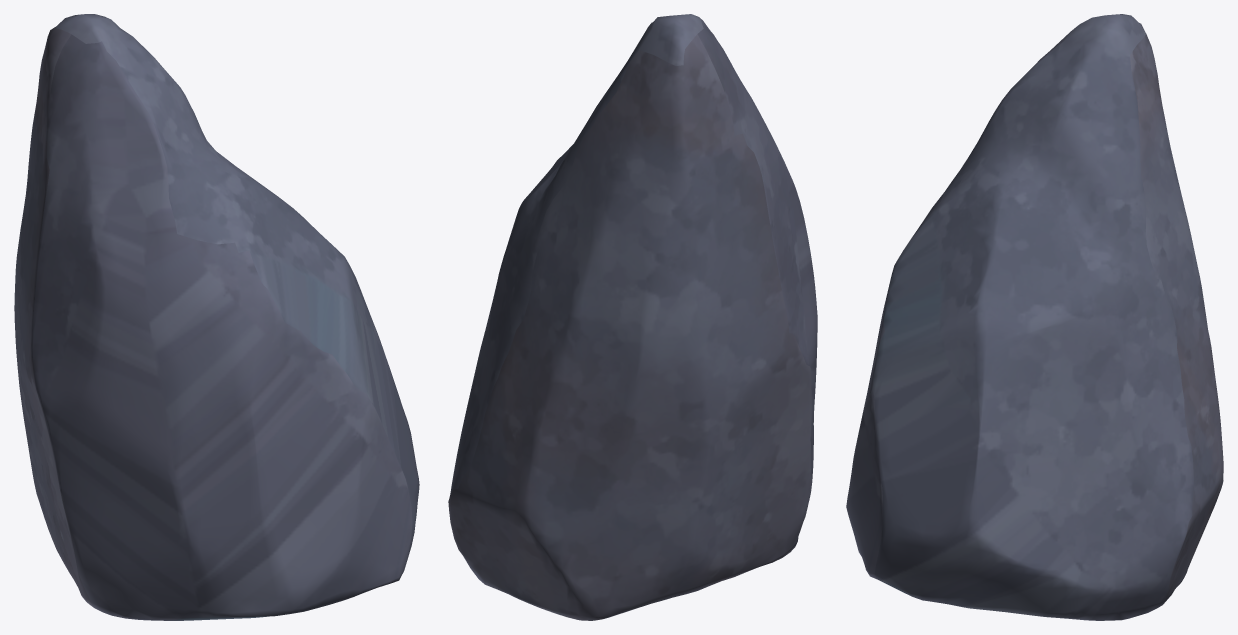
File: StylizedRockLargePointy2.fbx
3 views of the same model, side by side, from view 1: azimuth 30°, elevation 25°; view 2: azimuth 150°, elevation 25°; view 3: azimuth 270°, elevation 25° (orthographic). The views are drawn at different scales.
Parts seen in each view (by area): view 1: StylizedRockLargePointy2; view 2: StylizedRockLargePointy2; view 3: StylizedRockLargePointy2.
Boxes of the visible parts, x1,y1,x2,y2 form: StylizedRockLargePointy2: [14, 14, 419, 620]; StylizedRockLargePointy2: [448, 14, 817, 620]; StylizedRockLargePointy2: [846, 14, 1223, 620].
Bounding box in the file's own units: 308 × 494 × 324.
